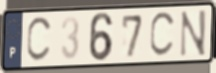3: (60, 14, 83, 63)
6: (88, 11, 115, 63)
7: (121, 12, 145, 59)
C: (25, 15, 55, 65), (148, 10, 178, 60)
N: (178, 8, 208, 59)
